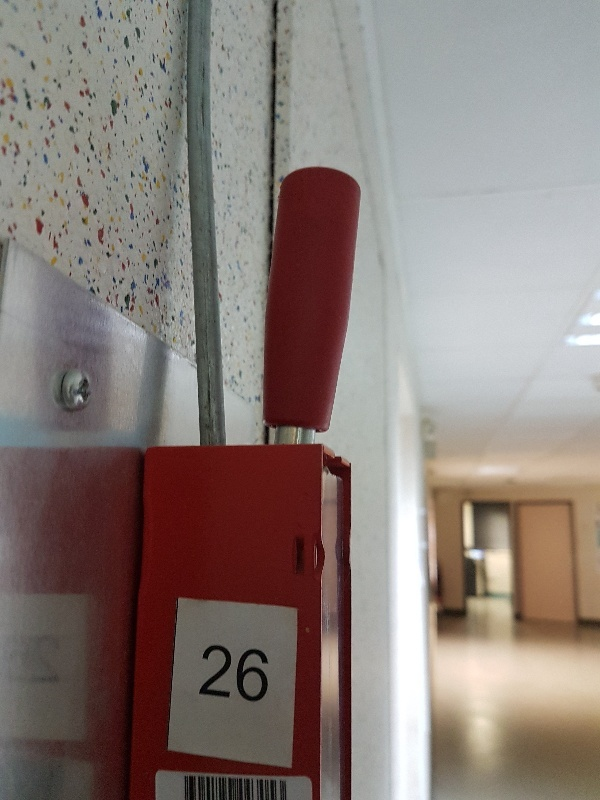text: (257, 645, 273, 704), (209, 645, 224, 704), (225, 645, 240, 704), (241, 645, 256, 704), (205, 645, 208, 704)
